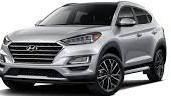SUV: (1, 3, 167, 96)
